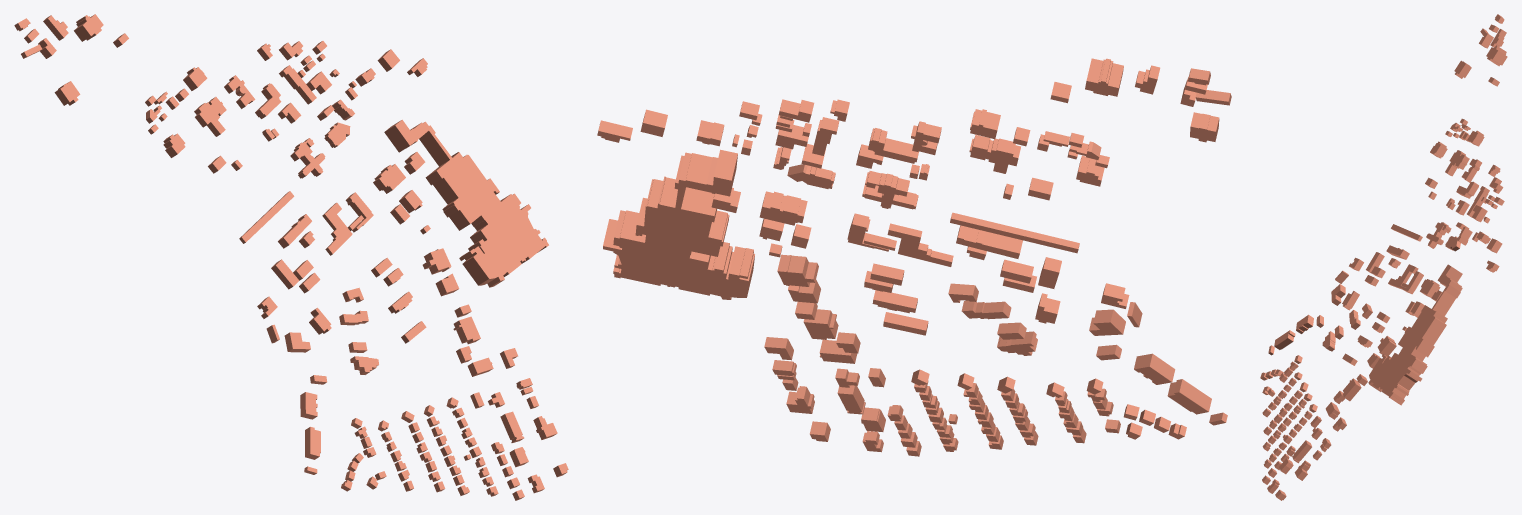
The picture shows the model from 3 angles, left to right: view 1: azimuth 30°, elevation 25°; view 2: azimuth 150°, elevation 25°; view 3: azimuth 270°, elevation 25°; orthographic projection. The views are drawn at different scales.
Visible parts, largest first — view 1: mesh; view 2: mesh; view 3: mesh.
Part boxes in pixels (x1,y1,x2,y2): mesh: (14,14,568,500); mesh: (597,58,1231,456); mesh: (1260,14,1507,500).
Bounding box in the file's own units: 986 × 916 × 600.
